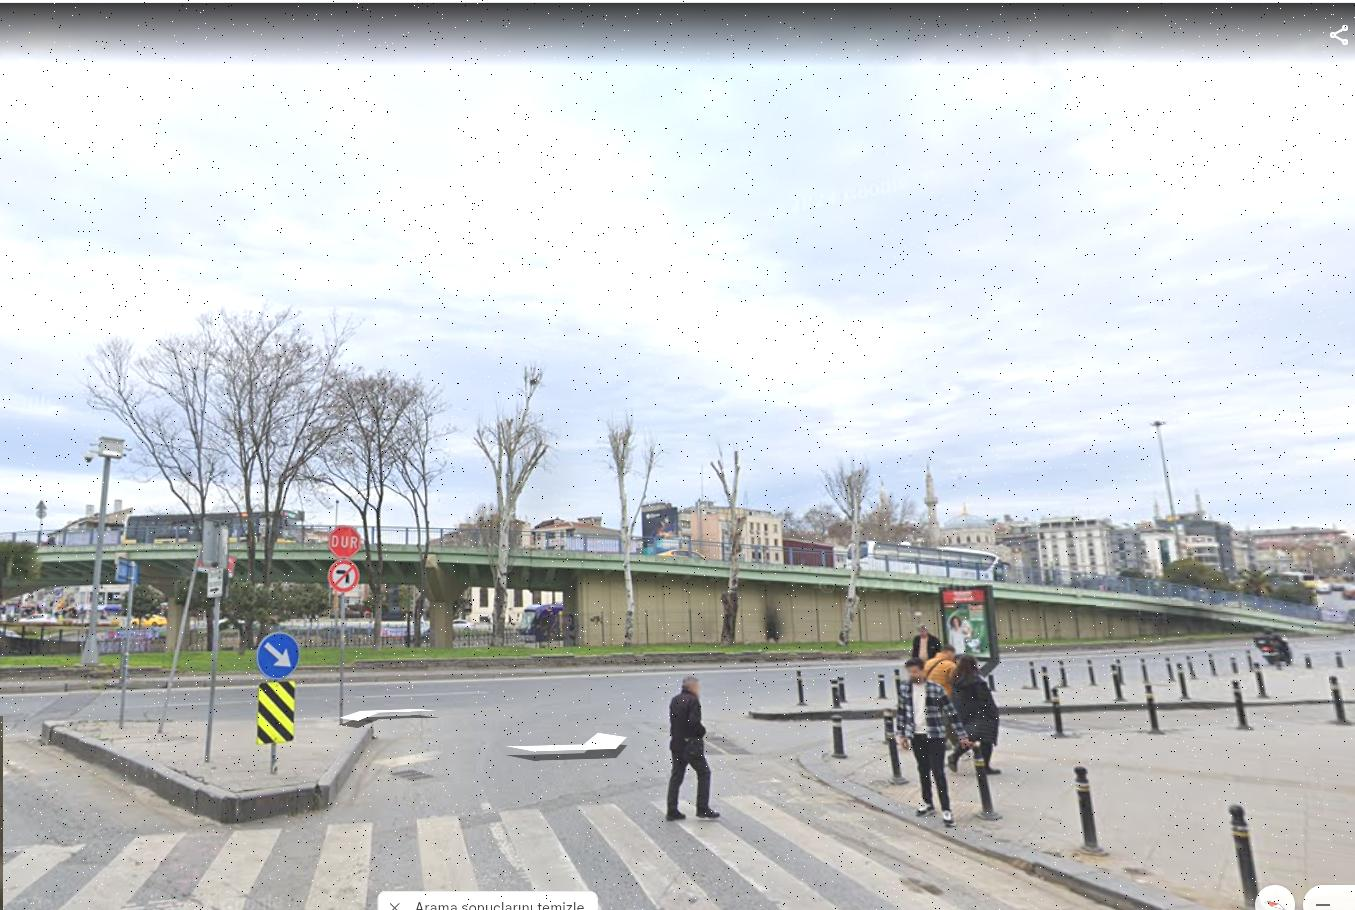leftturnsareforbidden: (327, 560, 362, 589)
stop: (328, 525, 362, 556)
